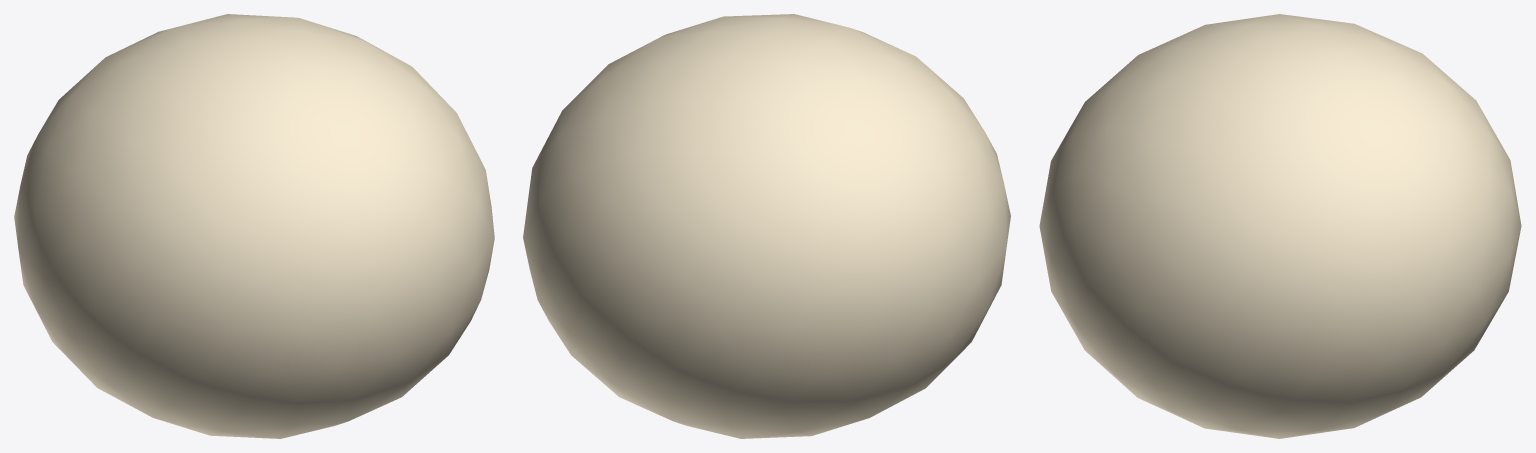
File: item_dough.glb
3 renders of one model, left to right at view 1: azimuth 30°, elevation 25°; view 2: azimuth 150°, elevation 25°; view 3: azimuth 270°, elevation 25°, orthographic.
Visible parts, largest first — view 1: dough; view 2: dough; view 3: dough.
Part boxes in pixels (x1,y1,x2,y2): dough: [14, 14, 494, 438]; dough: [523, 14, 1010, 438]; dough: [1039, 14, 1521, 438].
Bounding box in the file's own units: 0.3182 × 0.2711 × 0.3187.
